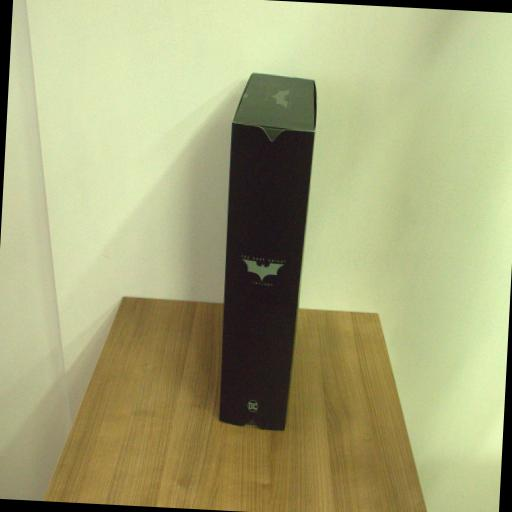catwoman: (217, 72, 318, 432)
